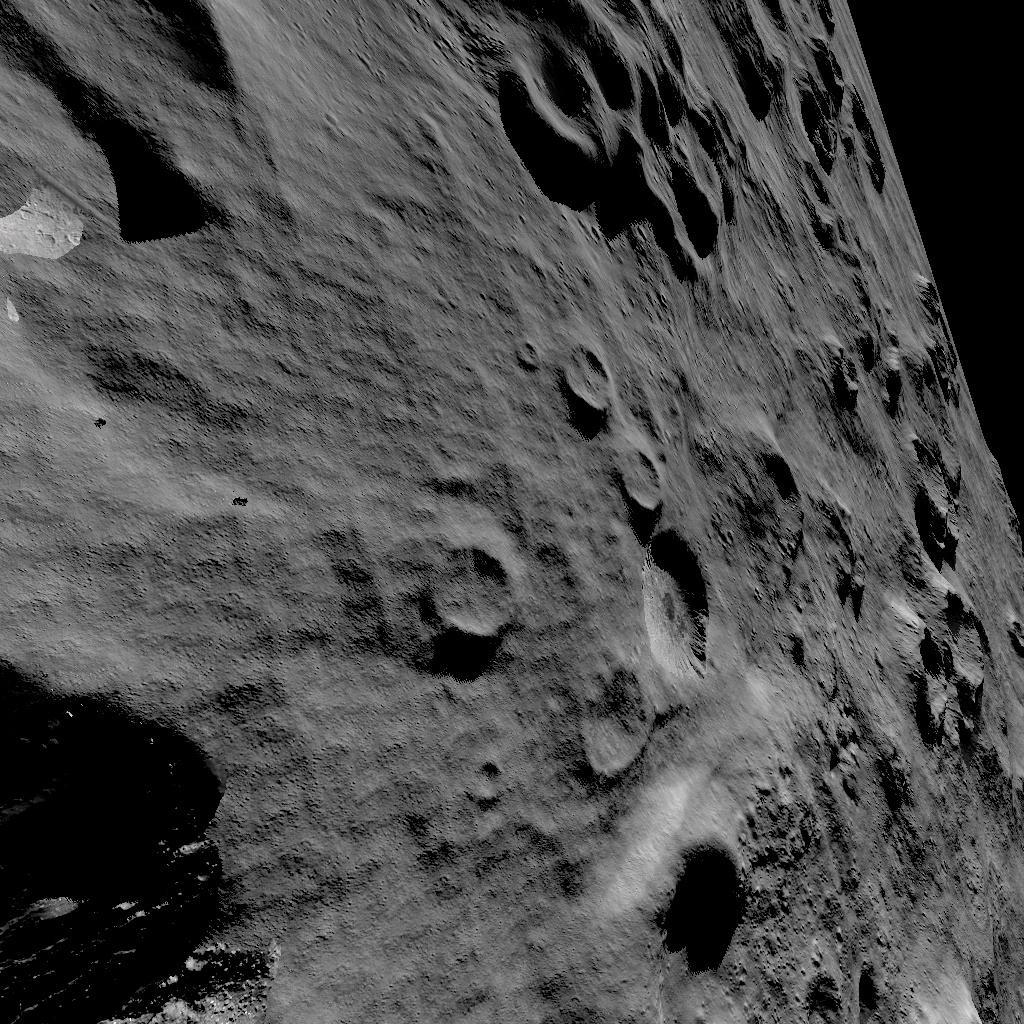Crater: (0, 640, 301, 1024), (477, 0, 754, 276), (3, 0, 277, 260), (586, 530, 736, 792), (849, 272, 994, 460), (803, 0, 914, 208), (907, 580, 1024, 774), (667, 838, 786, 1010), (435, 544, 536, 660), (763, 446, 831, 574), (930, 488, 1002, 568), (575, 344, 637, 430), (627, 458, 687, 522)
Plan surface: (0, 268, 423, 626), (319, 668, 573, 1024), (287, 0, 464, 259)
